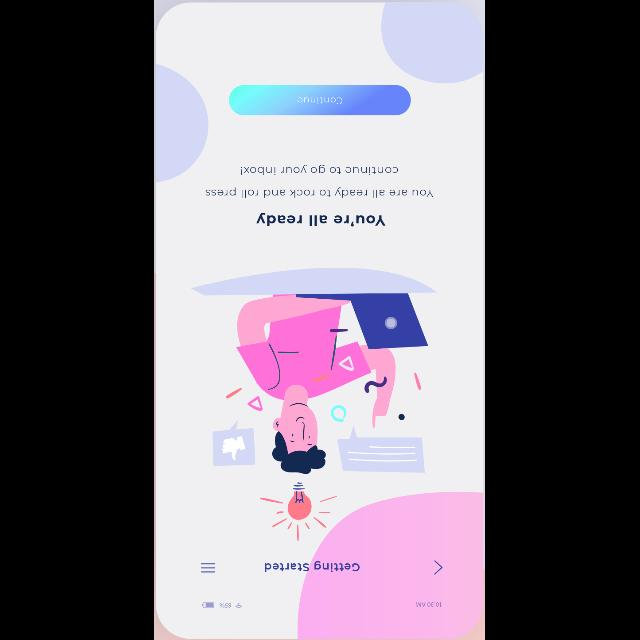icon: (202, 563, 216, 573), (434, 560, 444, 574)
image: (190, 267, 438, 543)
text: (206, 165, 434, 198), (257, 213, 387, 227), (265, 560, 361, 572)
textbutton: (230, 84, 412, 116)
uppertaskbar: (203, 602, 443, 608)
